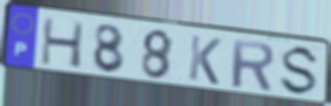8: (139, 28, 176, 82), (92, 23, 128, 75)
H: (39, 16, 87, 70)
K: (186, 33, 223, 87)
R: (229, 37, 276, 92)
S: (277, 45, 323, 98)
